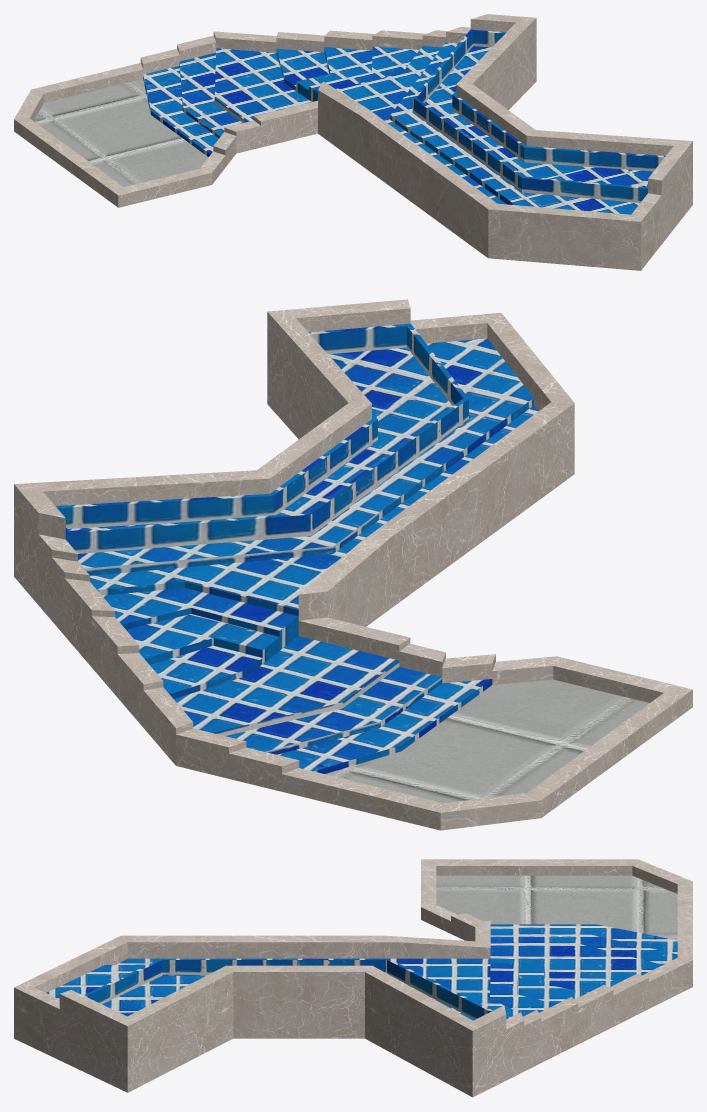
The model's file is Fountain.fbx.
3 renders of one model, top to bottom at view 1: azimuth 30°, elevation 25°; view 2: azimuth 150°, elevation 25°; view 3: azimuth 270°, elevation 25°, orthographic. The views are drawn at different scales.
Parts seen in each view (by area): view 1: Fountain; view 2: Fountain; view 3: Fountain.
Boxes of the visible parts, x1,y1,x2,y2 form: Fountain: (14, 14, 692, 270); Fountain: (14, 299, 692, 830); Fountain: (14, 859, 692, 1097).
Bounding box in the file's own units: 9696 × 1335 × 12349.
